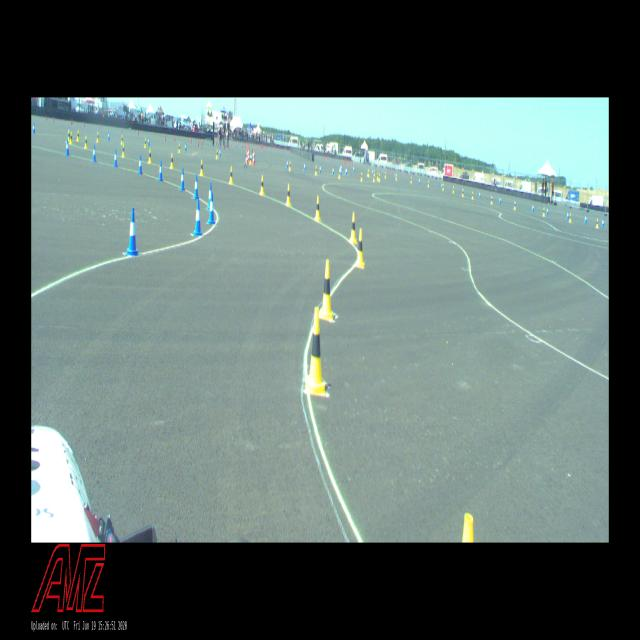blue_cone: (125, 208, 140, 255), (194, 198, 204, 235), (208, 191, 215, 224), (193, 175, 200, 199), (158, 161, 164, 181), (180, 168, 185, 191), (207, 183, 211, 210), (138, 154, 143, 174), (92, 145, 97, 162), (114, 150, 118, 167), (66, 139, 70, 155), (32, 123, 36, 134), (566, 211, 570, 220), (584, 214, 587, 223), (303, 162, 306, 171), (332, 167, 335, 176), (184, 143, 187, 152), (319, 164, 322, 173), (147, 137, 150, 145), (418, 177, 421, 184), (602, 218, 604, 227), (219, 148, 221, 157), (546, 207, 548, 216), (108, 132, 110, 140), (286, 160, 288, 168), (532, 204, 534, 211), (479, 191, 481, 198), (346, 168, 348, 175), (353, 165, 355, 172), (499, 196, 501, 203), (441, 182, 443, 189), (340, 168, 342, 175), (372, 169, 374, 176), (340, 165, 341, 172), (341, 164, 342, 171)
large_orange_cone: (252, 150, 255, 165), (246, 150, 248, 164), (248, 148, 250, 162)
yellow_cone: (303, 307, 328, 396), (318, 262, 335, 319), (355, 228, 365, 269), (350, 213, 358, 243), (314, 195, 321, 221), (286, 184, 291, 206), (229, 166, 234, 184), (260, 176, 264, 196), (200, 159, 204, 176), (170, 153, 174, 169), (84, 135, 88, 149), (148, 149, 152, 163), (122, 143, 125, 158), (76, 130, 80, 141), (96, 132, 100, 142), (542, 207, 546, 217), (314, 166, 318, 175), (215, 150, 219, 159), (70, 132, 73, 144), (568, 213, 572, 222), (542, 208, 546, 216), (144, 138, 147, 148), (178, 143, 181, 153), (67, 130, 70, 140), (360, 172, 363, 181), (338, 170, 341, 179), (378, 173, 381, 182), (121, 134, 123, 145), (250, 154, 252, 165), (452, 186, 455, 193), (461, 189, 464, 196), (472, 191, 474, 200), (596, 219, 598, 228), (289, 162, 291, 171), (368, 169, 370, 177), (428, 180, 430, 187), (376, 173, 378, 180), (491, 197, 493, 204), (442, 183, 444, 190), (373, 174, 375, 181), (384, 171, 386, 178), (514, 202, 516, 209), (410, 177, 412, 183), (396, 174, 398, 180)
